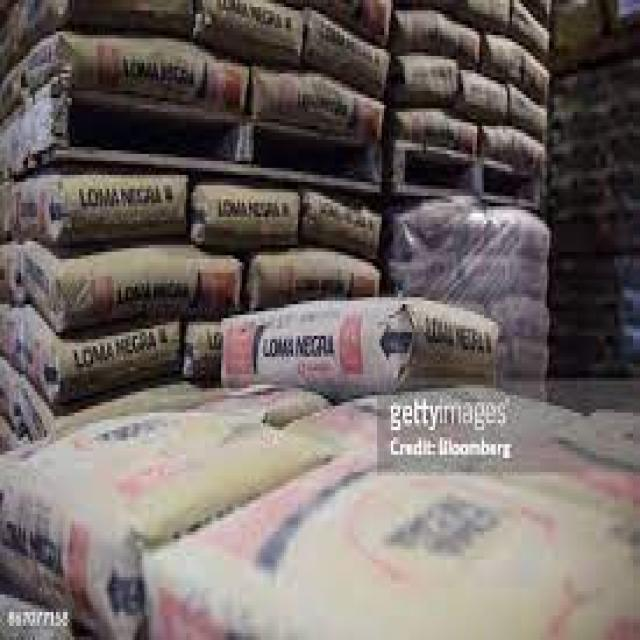cement_bag: (2, 408, 318, 548), (294, 381, 578, 474), (221, 303, 499, 388), (14, 243, 238, 338), (14, 306, 176, 418), (59, 32, 250, 117), (10, 178, 186, 251), (255, 77, 386, 135), (307, 12, 389, 100), (255, 260, 378, 311), (199, 187, 298, 248), (201, 0, 300, 60), (305, 192, 383, 266), (399, 7, 481, 72), (393, 108, 477, 160), (487, 38, 550, 104), (488, 131, 546, 174), (465, 67, 506, 123), (402, 60, 457, 99), (512, 0, 548, 57)
